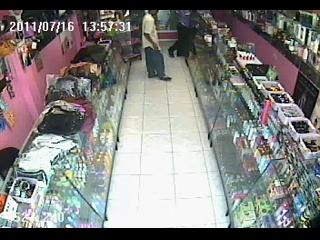Normal: (142, 10, 172, 81)
